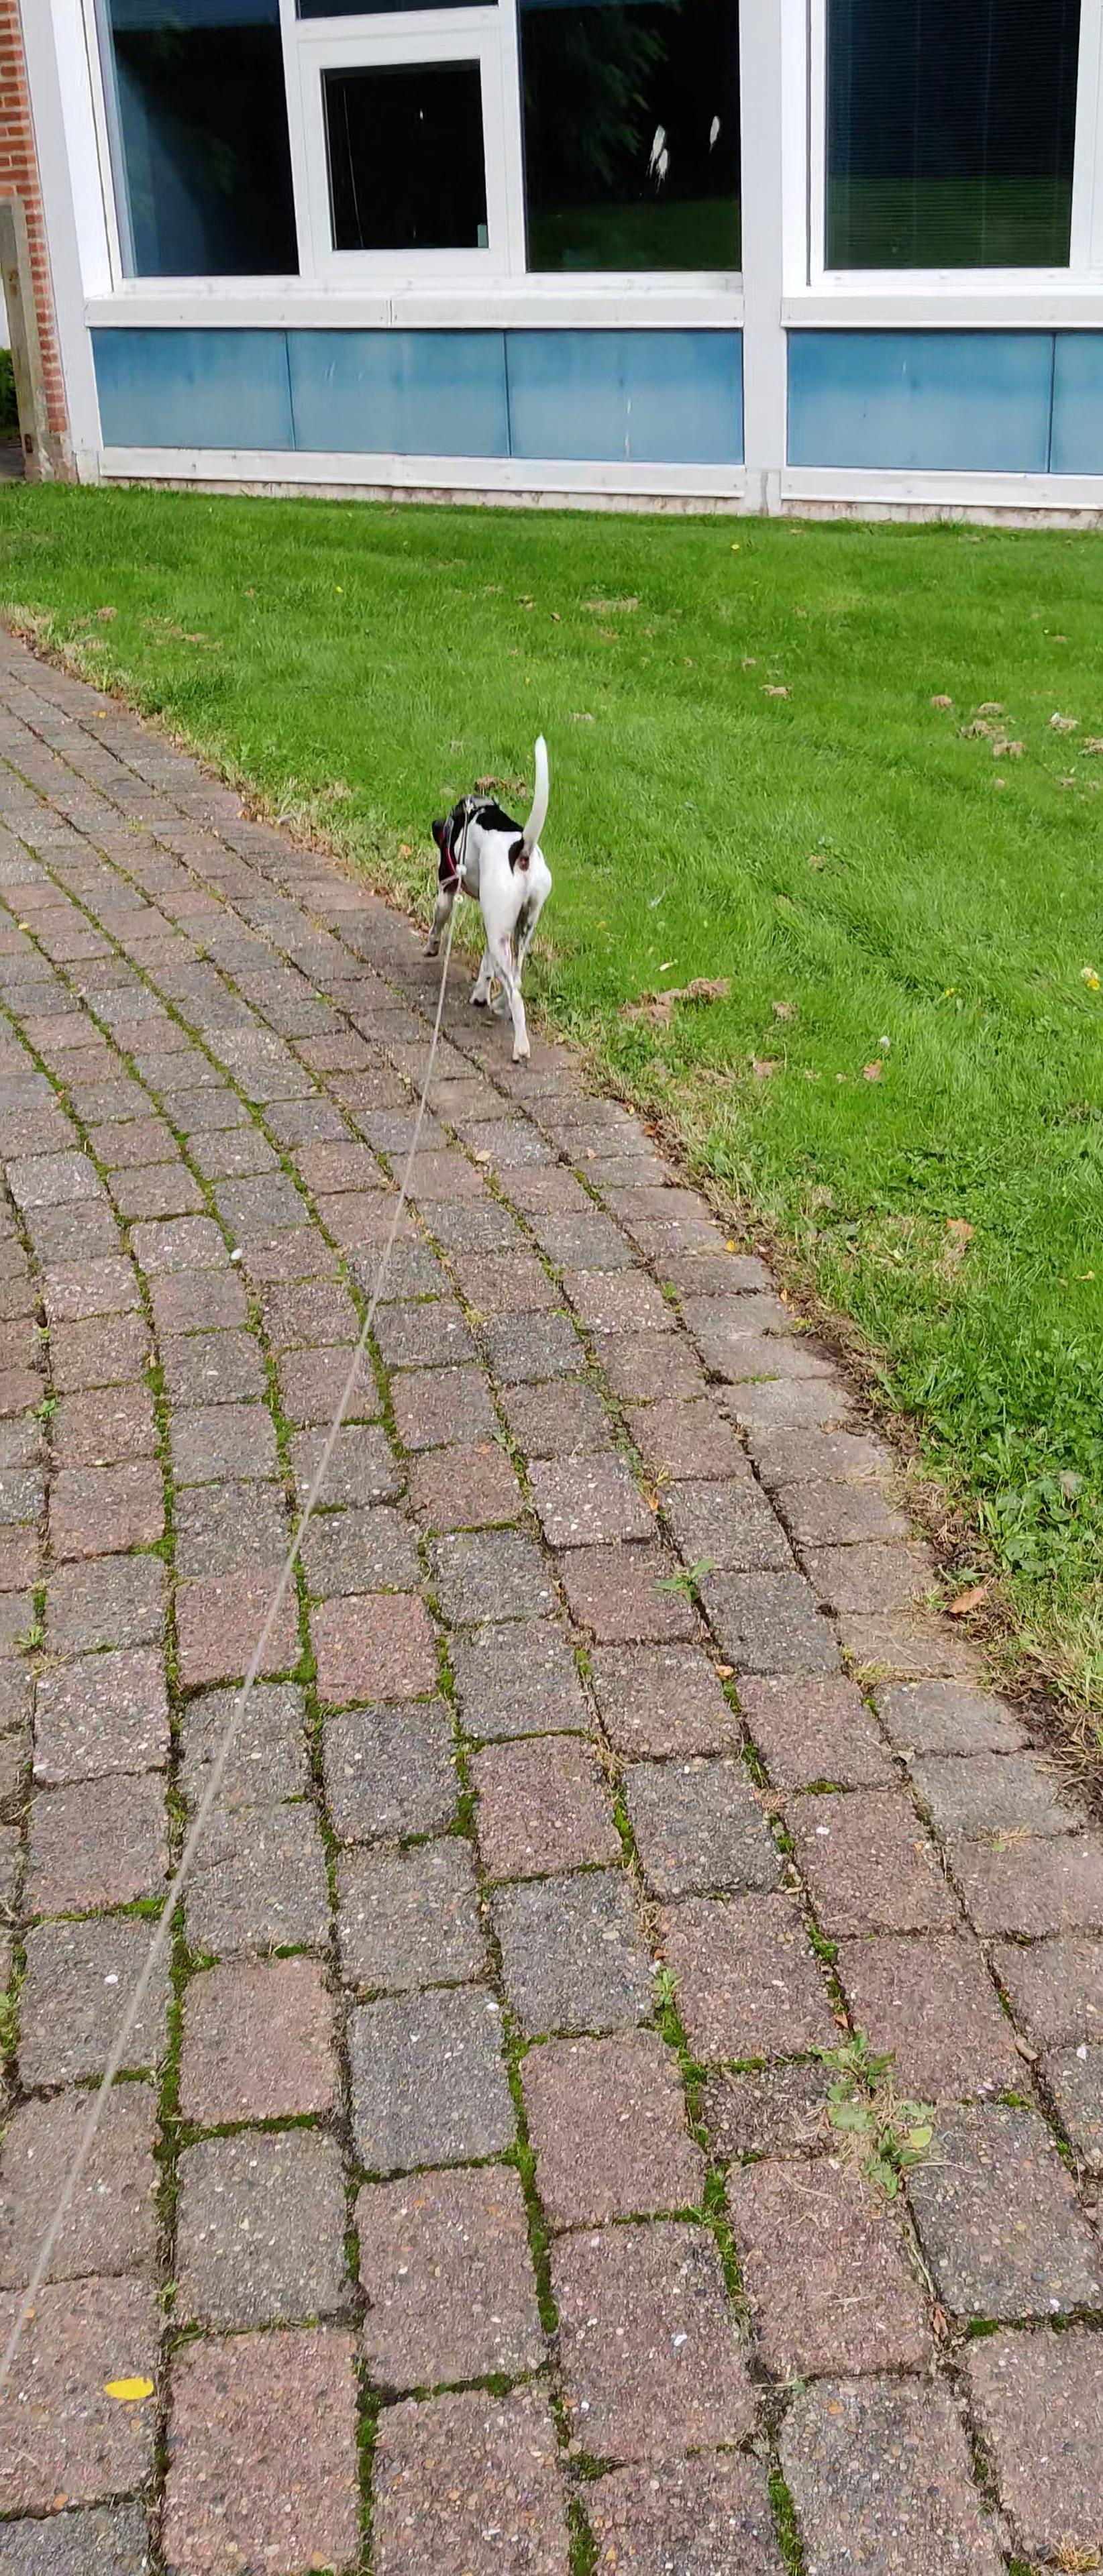Dog: (416, 713, 564, 1074)
